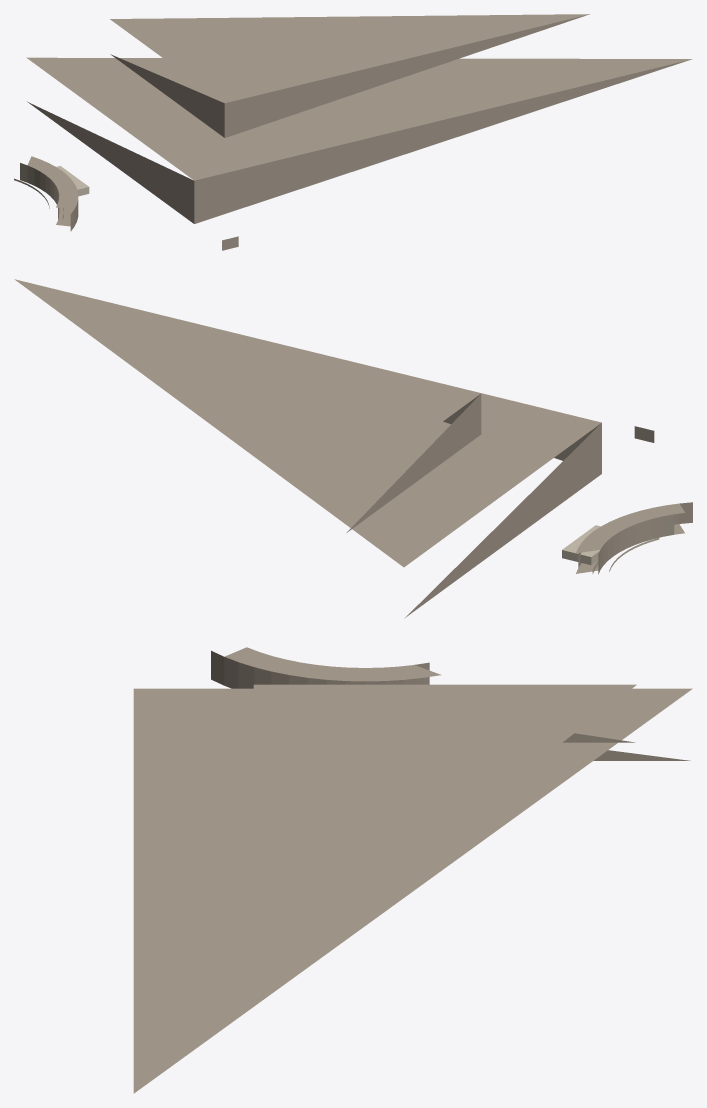
The model's file is chavin_portada_lod1.glb.
3 views of the same model, one above another, from view 1: azimuth 30°, elevation 25°; view 2: azimuth 150°, elevation 25°; view 3: azimuth 270°, elevation 25° (orthographic). The views are drawn at different scales.
Parts seen in each view (by area): view 1: chavin_portada; view 2: chavin_portada; view 3: chavin_portada.
Boxes of the visible parts, left/top/right/bottom form: chavin_portada: left=14, top=14, right=692, bottom=250; chavin_portada: left=14, top=279, right=692, bottom=618; chavin_portada: left=133, top=647, right=692, bottom=1093.
Size of the model in its own units: 72.58 by 9 by 42.5.
